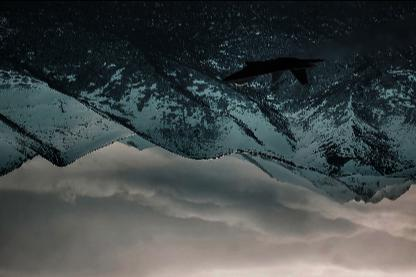F18: (222, 57, 326, 86)
